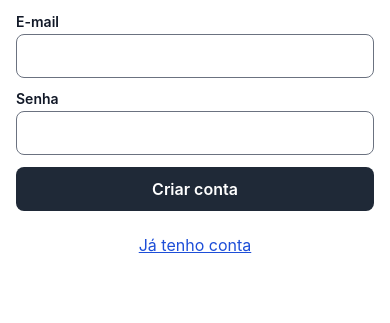
Scenario: C02: a repeated e-mail shows the message on screen
Type "ana@exemplo.com" into the field with test id "signup.email". click: {"x": 195, "y": 56}
box: [16,34,374,78]
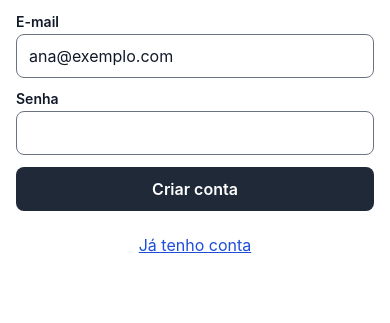
Type "segredo123" into the password field with test id "signup.password". click: {"x": 195, "y": 133}
box: [16,111,374,155]
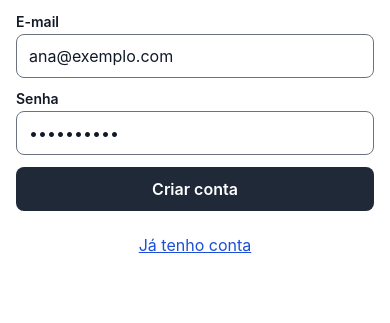
Click the button with test id "signup.submit". click: {"x": 195, "y": 189}
box: [16,167,374,211]
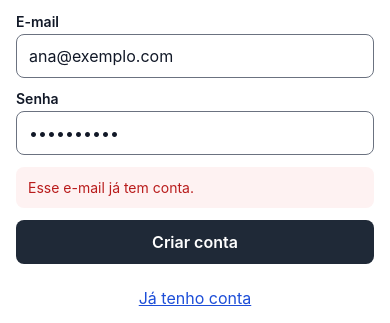
Expected: the message reads "Esse e-mail já tem conta.", [28,179,194,196]
